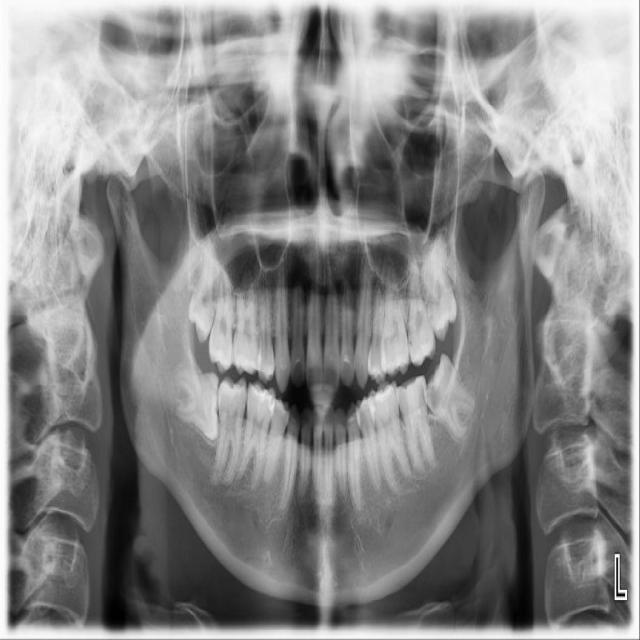Caries: (431, 387, 441, 408)
impacted tooth: (424, 355, 478, 438), (166, 365, 219, 442), (417, 234, 456, 336), (188, 248, 217, 339)
